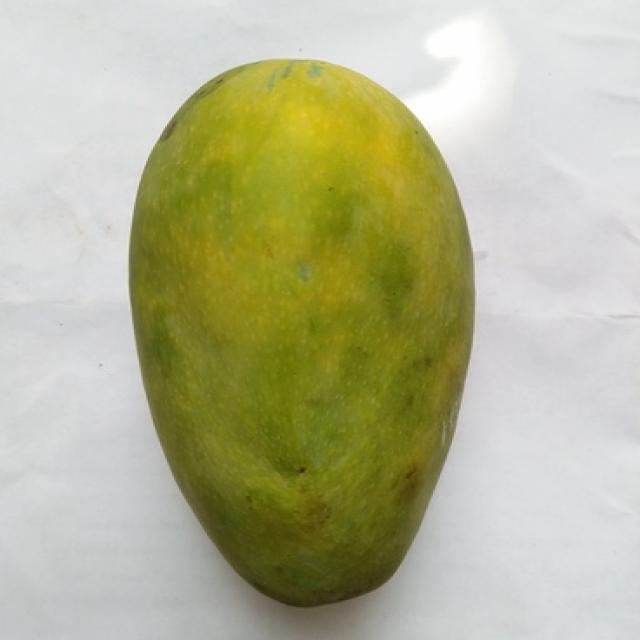Mango: (130, 60, 473, 604)
